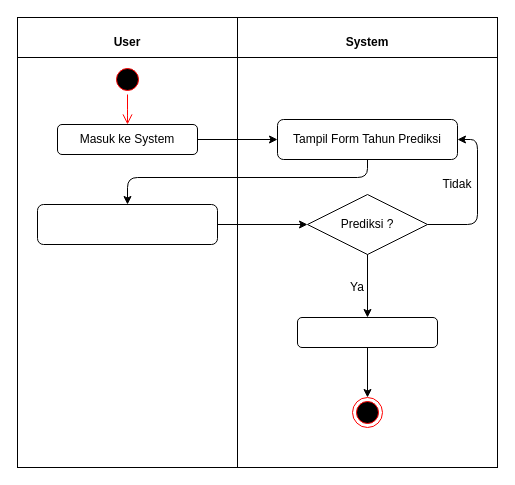
Some shapes in this 515 by 485 pixel diagram are drawn without their labels. The shapes that lost their labels are listed below. From the top down, each one's centre as x and y in pixels, then its label:
At (x=127, y=224): "Input Tahun Prediksi".
At (x=367, y=332): "Tampil Hasil Prediksi".
